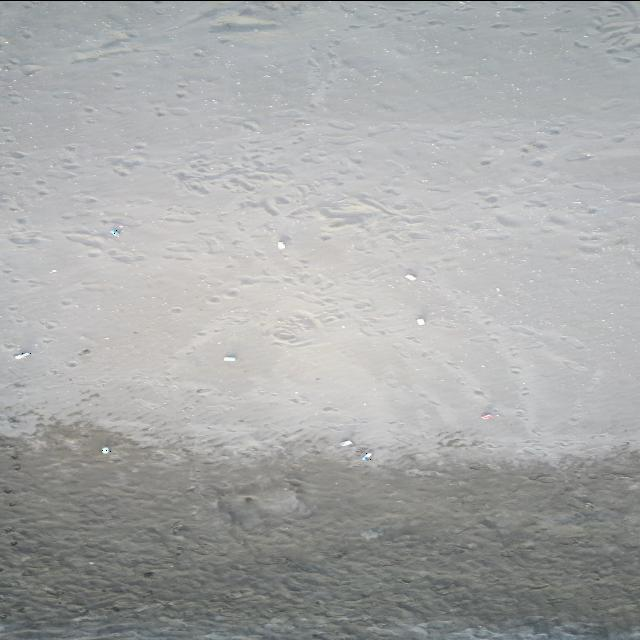Garbage: (355, 447, 372, 460), (480, 411, 496, 419), (13, 352, 31, 359), (404, 272, 415, 280), (111, 227, 120, 236), (360, 452, 371, 459), (340, 440, 352, 446), (341, 440, 352, 446), (276, 240, 283, 249), (223, 355, 235, 360), (416, 317, 424, 324), (101, 447, 110, 452), (48, 268, 55, 272)
